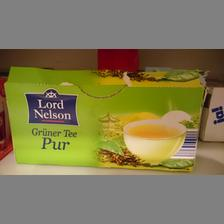Tee: (2, 64, 206, 172)
